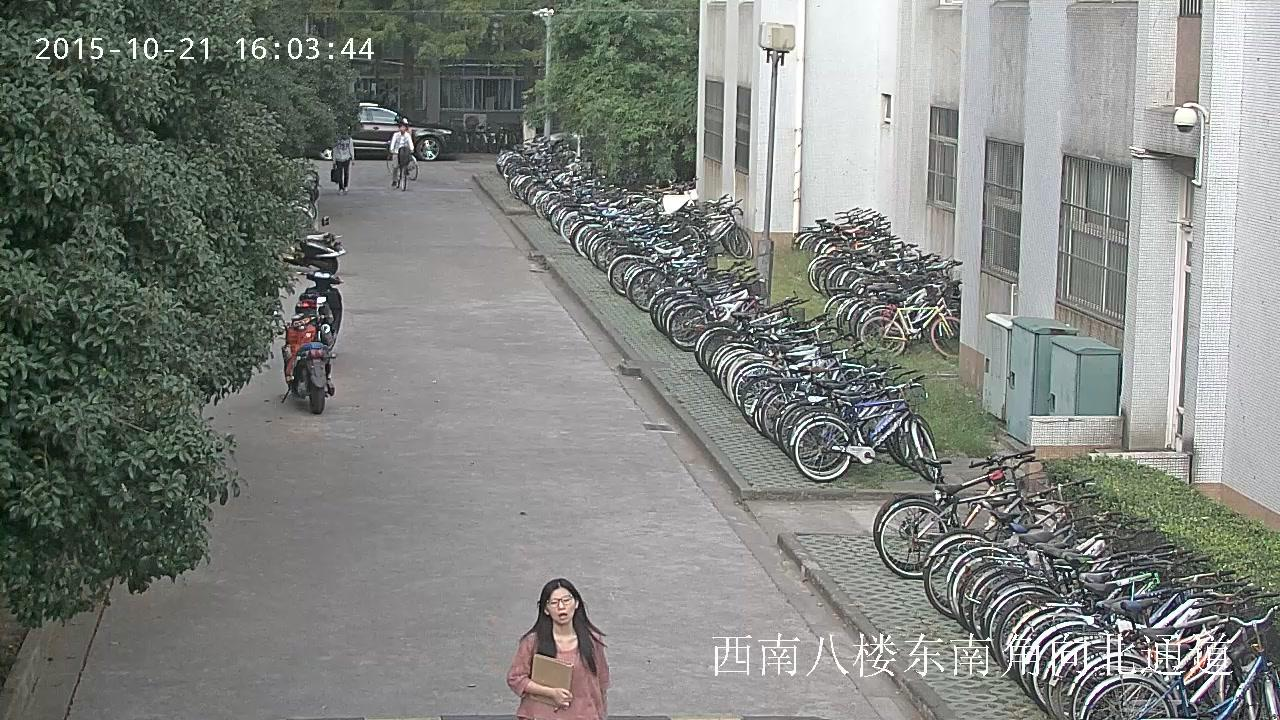person: (507, 578, 609, 719), (388, 120, 416, 190), (388, 121, 414, 185), (331, 136, 354, 192)
